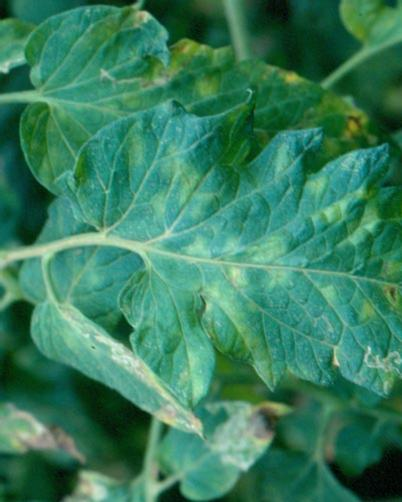Tomato mold leaf: (51, 94, 402, 402)
